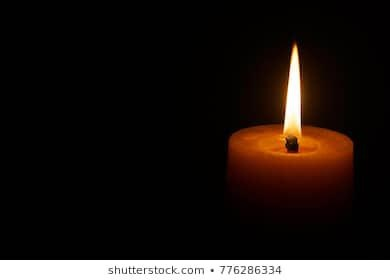fire: (280, 38, 304, 145)
